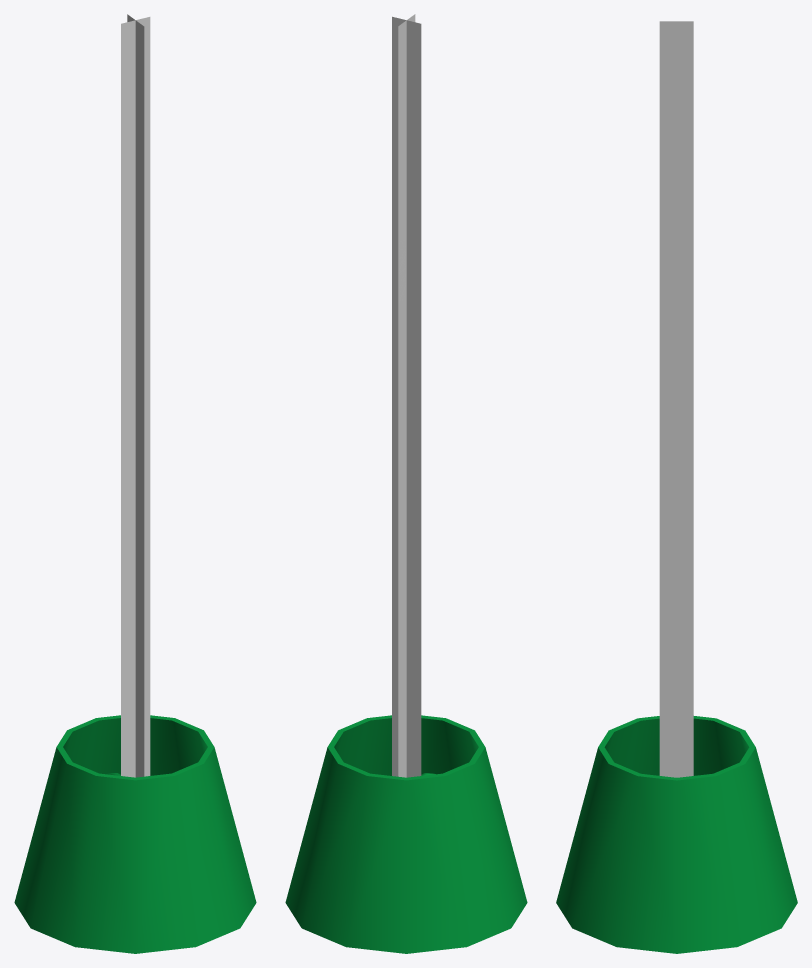
File: CTS_E_CabinLightA.fbx
3 renders of one model, left to right at view 1: azimuth 30°, elevation 25°; view 2: azimuth 150°, elevation 25°; view 3: azimuth 270°, elevation 25°, orthographic.
Visible parts, largest first — view 1: CTS_E_CabinLightA; view 2: CTS_E_CabinLightA; view 3: CTS_E_CabinLightA.
Part boxes in pixels (x1,y1,x2,y2): CTS_E_CabinLightA: (14, 14, 256, 953); CTS_E_CabinLightA: (285, 14, 527, 953); CTS_E_CabinLightA: (556, 21, 797, 953).
Size of the model in its own units: 32.52 by 131 by 32.52.
